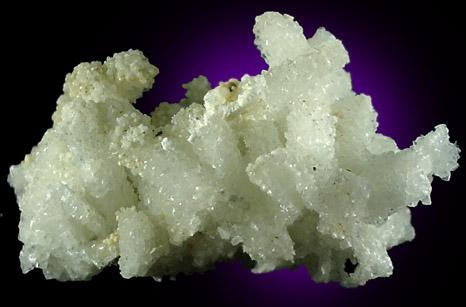prehnite: (8, 11, 460, 289)
